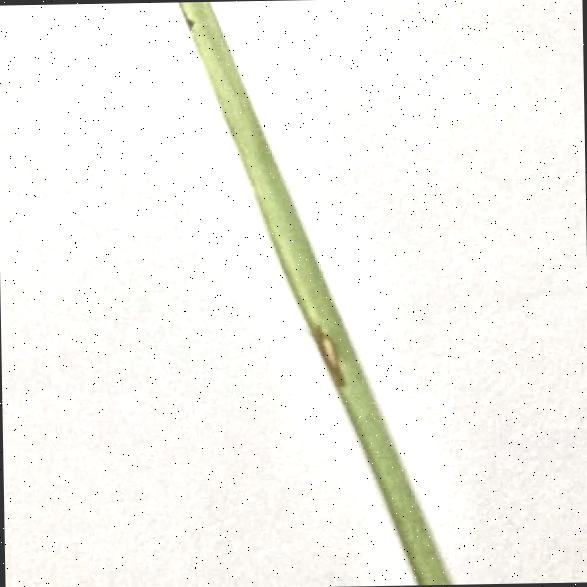Leaf_smut: (310, 314, 354, 393)
